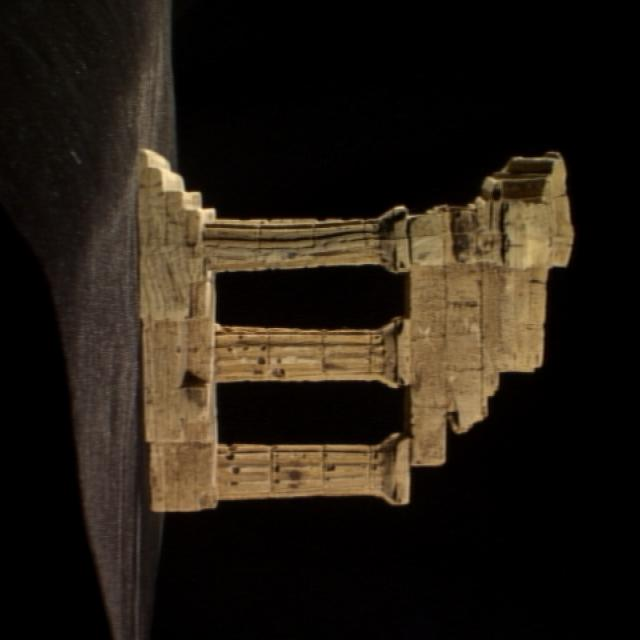Instance-Segmentation: (138, 149, 572, 511)
